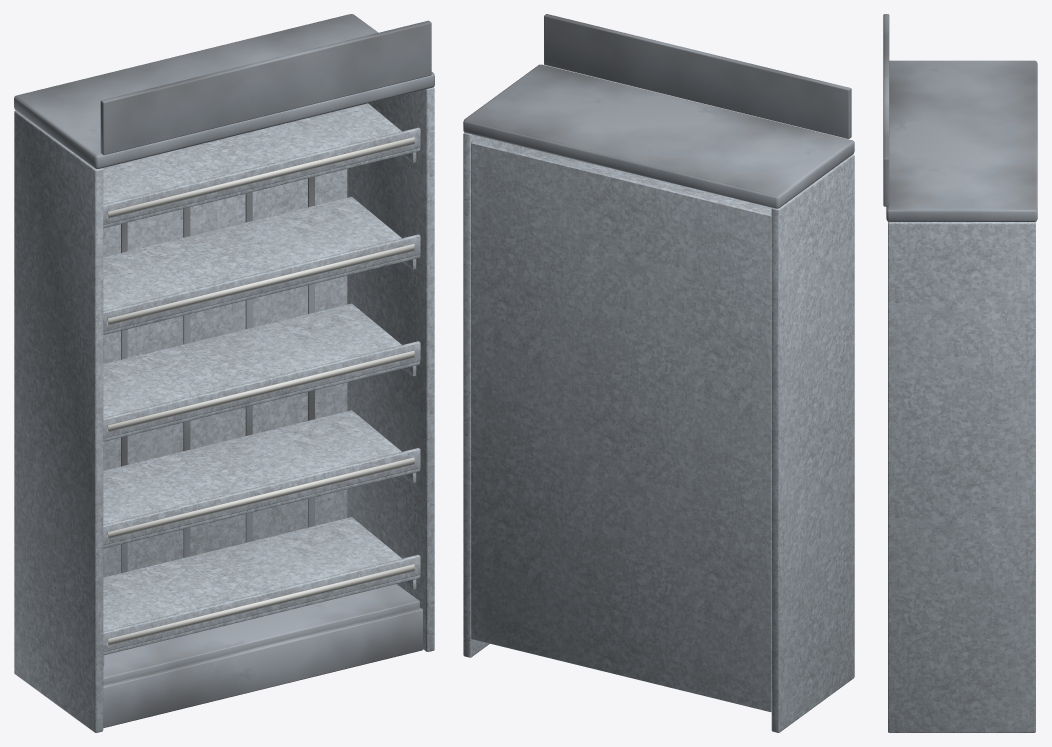
File: SM_Shelf_Unit.glb
The picture shows the model from 3 angles, left to right: view 1: azimuth 30°, elevation 25°; view 2: azimuth 150°, elevation 25°; view 3: azimuth 270°, elevation 25°; orthographic projection. The views are drawn at different scales.
Visible parts, largest first — view 1: SM_Shelf_Unit; view 2: SM_Shelf_Unit; view 3: SM_Shelf_Unit.
Part boxes in pixels (bbox=[...]): SM_Shelf_Unit: bbox=[14, 14, 434, 732]; SM_Shelf_Unit: bbox=[463, 14, 854, 732]; SM_Shelf_Unit: bbox=[883, 14, 1037, 732].
Size of what is drawn, in the model's own units: 1.2 by 2.13 by 0.52.
Materials: 3 (2 with a texture image).
